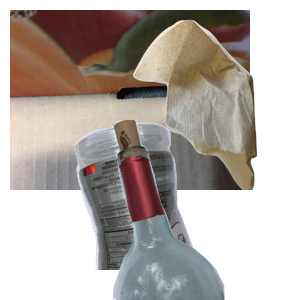cardboard: (10, 10, 250, 190)
glass: (89, 120, 300, 300)
plastic: (71, 120, 265, 300)
trash: (131, 17, 300, 197)
